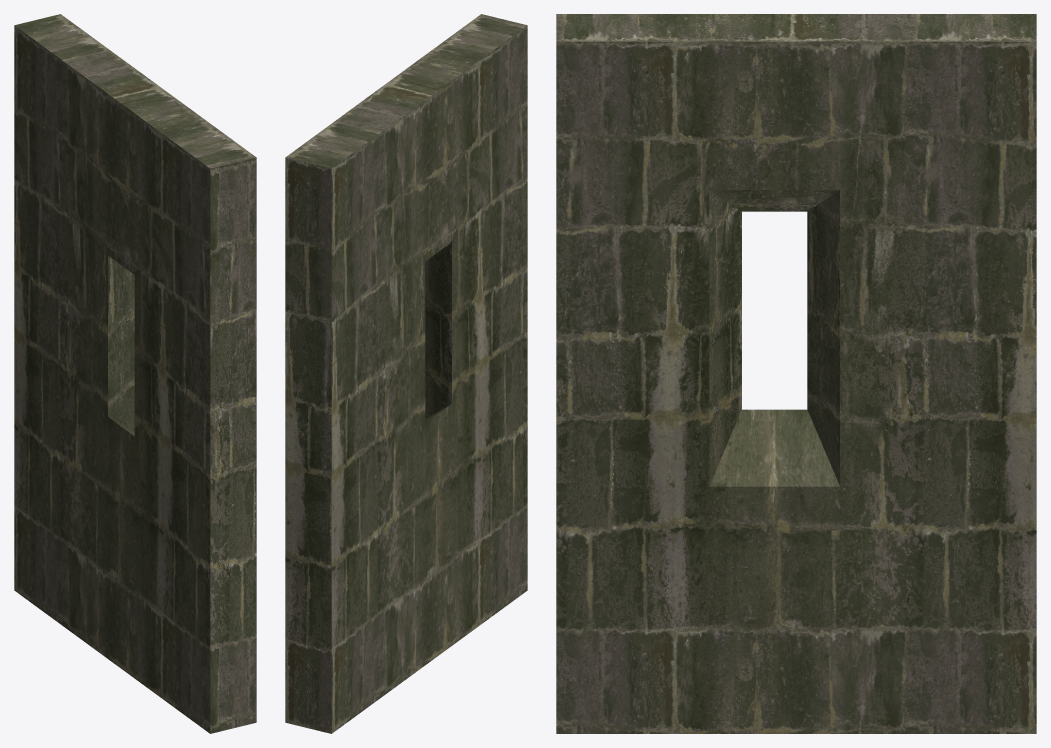
File: VerticalHalfWall_R_Arrowslit.fbx
3 views of the same model, side by side, from view 1: azimuth 30°, elevation 25°; view 2: azimuth 150°, elevation 25°; view 3: azimuth 270°, elevation 25° (orthographic). The views are drawn at different scales.
Parts seen in each view (by area): view 1: VerticalHalfWall_R_Arrowslit; view 2: VerticalHalfWall_R_Arrowslit; view 3: VerticalHalfWall_R_Arrowslit.
Part boxes in pixels (box(x1,y1,x2,y2)): VerticalHalfWall_R_Arrowslit: box(14, 14, 256, 733); VerticalHalfWall_R_Arrowslit: box(285, 14, 527, 733); VerticalHalfWall_R_Arrowslit: box(556, 14, 1036, 733).
Bounding box in the file's own units: 51 × 595 × 374.
